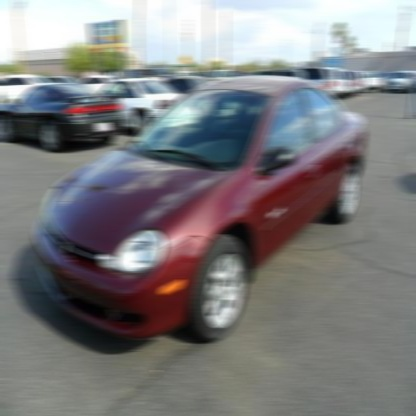Vehicle: (33, 75, 366, 345)
